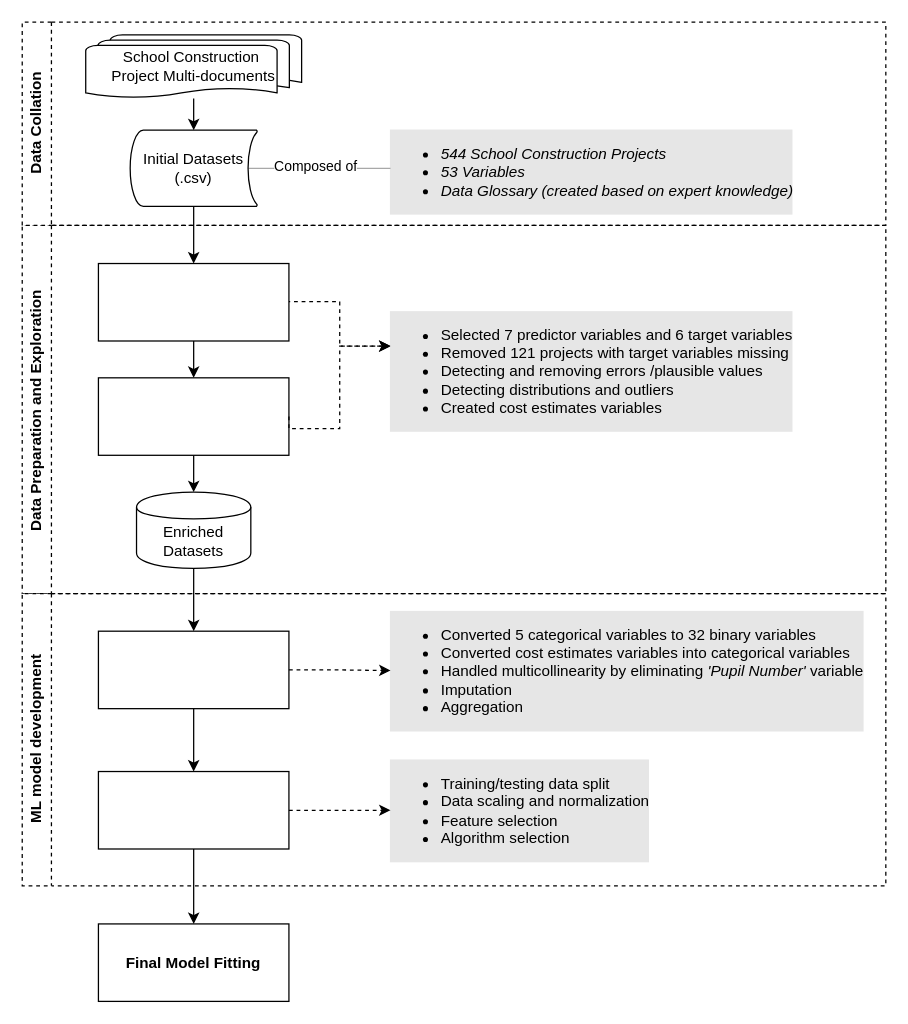
Image size: 908x1024. Some labels were removed from this diagram. Each missing label, with the centre of its shape:
Data Cleasing: the point at 193,301
Data Pre-processing: the point at 193,669
Exploratory Data Analysis: the point at 193,416
Model Building: the point at 193,809
